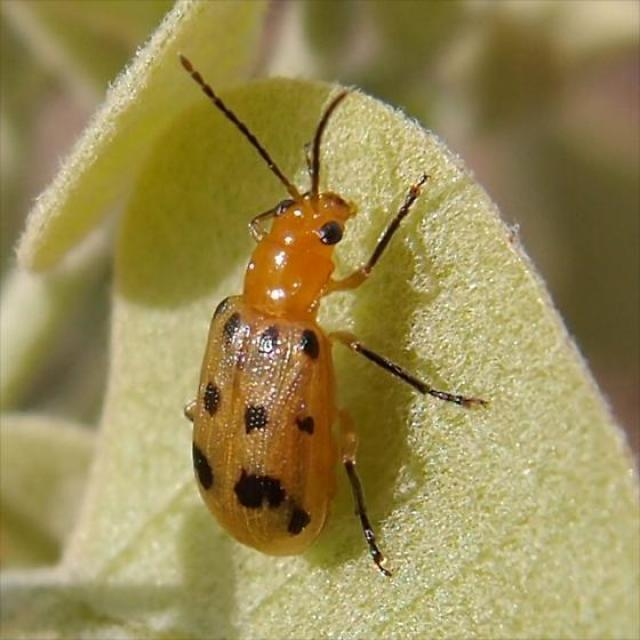gusano_verde: (178, 54, 488, 579)
